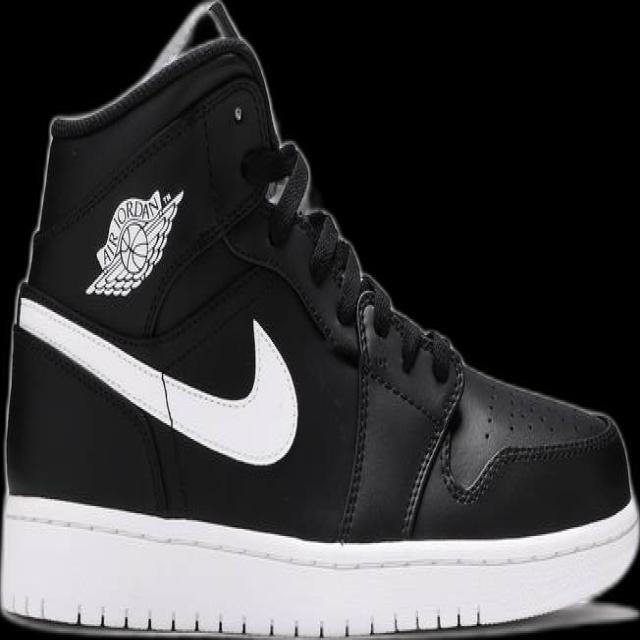J1_InsoleChar: (0, 0, 639, 638)
J1_ShoeLogo: (83, 186, 185, 298)
J1_StitchPattern: (11, 278, 621, 531), (340, 272, 620, 539), (13, 285, 300, 466), (2, 494, 637, 574), (337, 273, 465, 540), (14, 293, 183, 434), (3, 594, 487, 638), (261, 138, 365, 325), (351, 276, 463, 419), (443, 421, 621, 506), (397, 362, 465, 538), (336, 282, 376, 544), (302, 208, 364, 323)
